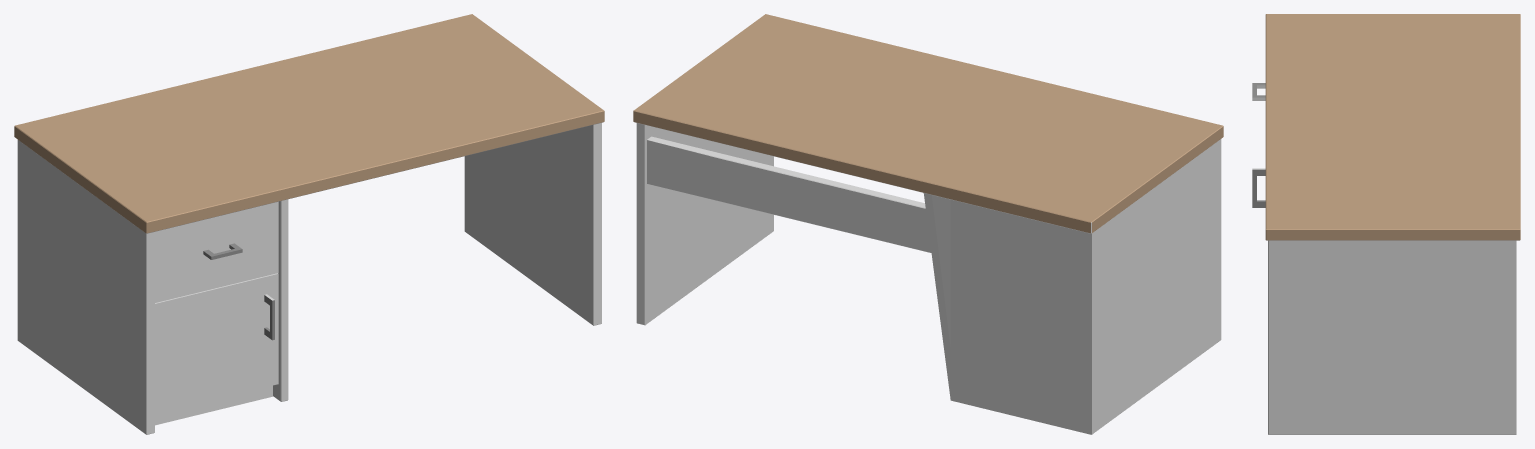
Rendered from desk.glb.
3 views of the same model, side by side, from view 1: azimuth 30°, elevation 25°; view 2: azimuth 150°, elevation 25°; view 3: azimuth 270°, elevation 25° (orthographic). The views are drawn at different scales.
Visible parts, largest first — view 1: Desk1_Polygon; view 2: Desk1_Polygon; view 3: Desk1_Polygon.
Part boxes in pixels (<box>): Desk1_Polygon: <box>14,14,604,434</box>; Desk1_Polygon: <box>633,14,1223,434</box>; Desk1_Polygon: <box>1252,14,1520,434</box>.
Size of the model in its own units: 5.62 by 2.51 by 2.96.
